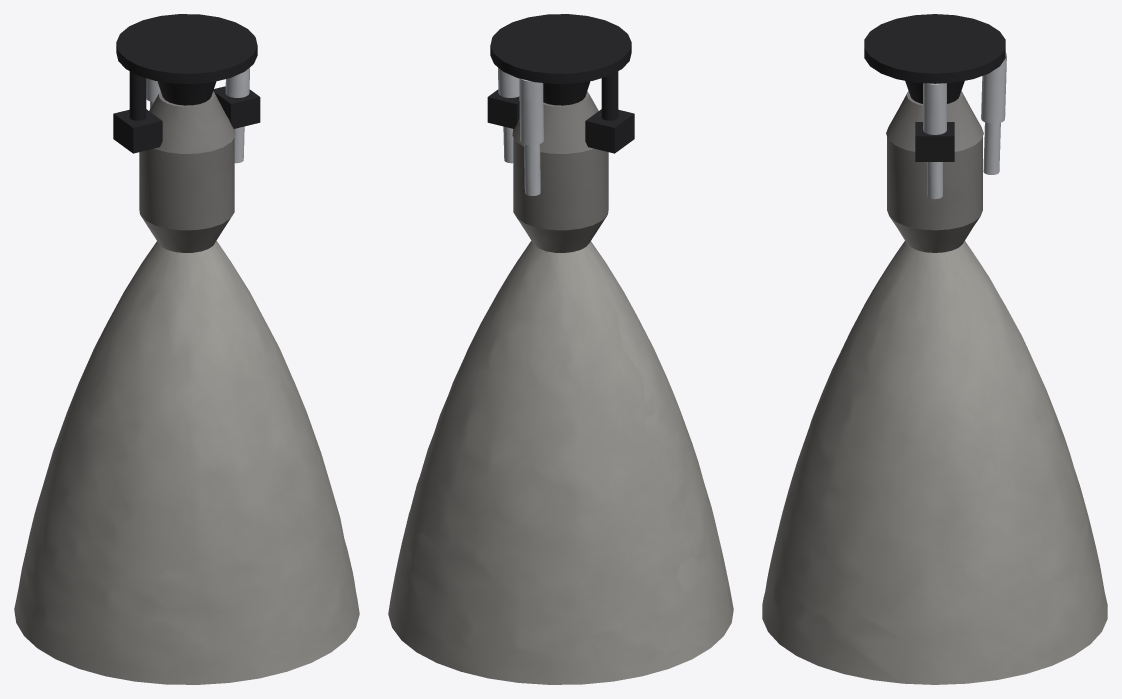
The model's file is prop07_kestrel.glb.
3 renders of one model, left to right at view 1: azimuth 30°, elevation 25°; view 2: azimuth 150°, elevation 25°; view 3: azimuth 270°, elevation 25°, orthographic.
Parts seen in each view (by area): view 1: nozzle, gimbal_mount, chamber, propellant_valves, injector_dome, gimbal_actuators; view 2: nozzle, gimbal_mount, chamber, propellant_valves, gimbal_actuators, injector_dome; view 3: nozzle, gimbal_mount, chamber, gimbal_actuators, injector_dome, propellant_valves.
Boxes of the visible parts, x1,y1,x2,y2 form: nozzle: [14, 241, 359, 684]; gimbal_mount: [116, 14, 257, 105]; chamber: [139, 137, 234, 252]; propellant_valves: [113, 71, 260, 153]; injector_dome: [149, 91, 235, 153]; gimbal_actuators: [146, 67, 249, 163]; nozzle: [388, 241, 733, 684]; gimbal_mount: [490, 14, 631, 105]; chamber: [513, 137, 608, 252]; propellant_valves: [487, 71, 634, 153]; gimbal_actuators: [498, 67, 543, 195]; injector_dome: [512, 91, 598, 153]; nozzle: [762, 241, 1107, 684]; gimbal_mount: [864, 14, 1005, 103]; chamber: [887, 136, 982, 252]; gimbal_actuators: [923, 52, 1006, 199]; injector_dome: [886, 91, 983, 151]; propellant_valves: [915, 122, 954, 161].
Size of the model in its own units: 1.22 by 2.22 by 1.22.
Materials: 4 (3 with a texture image).
